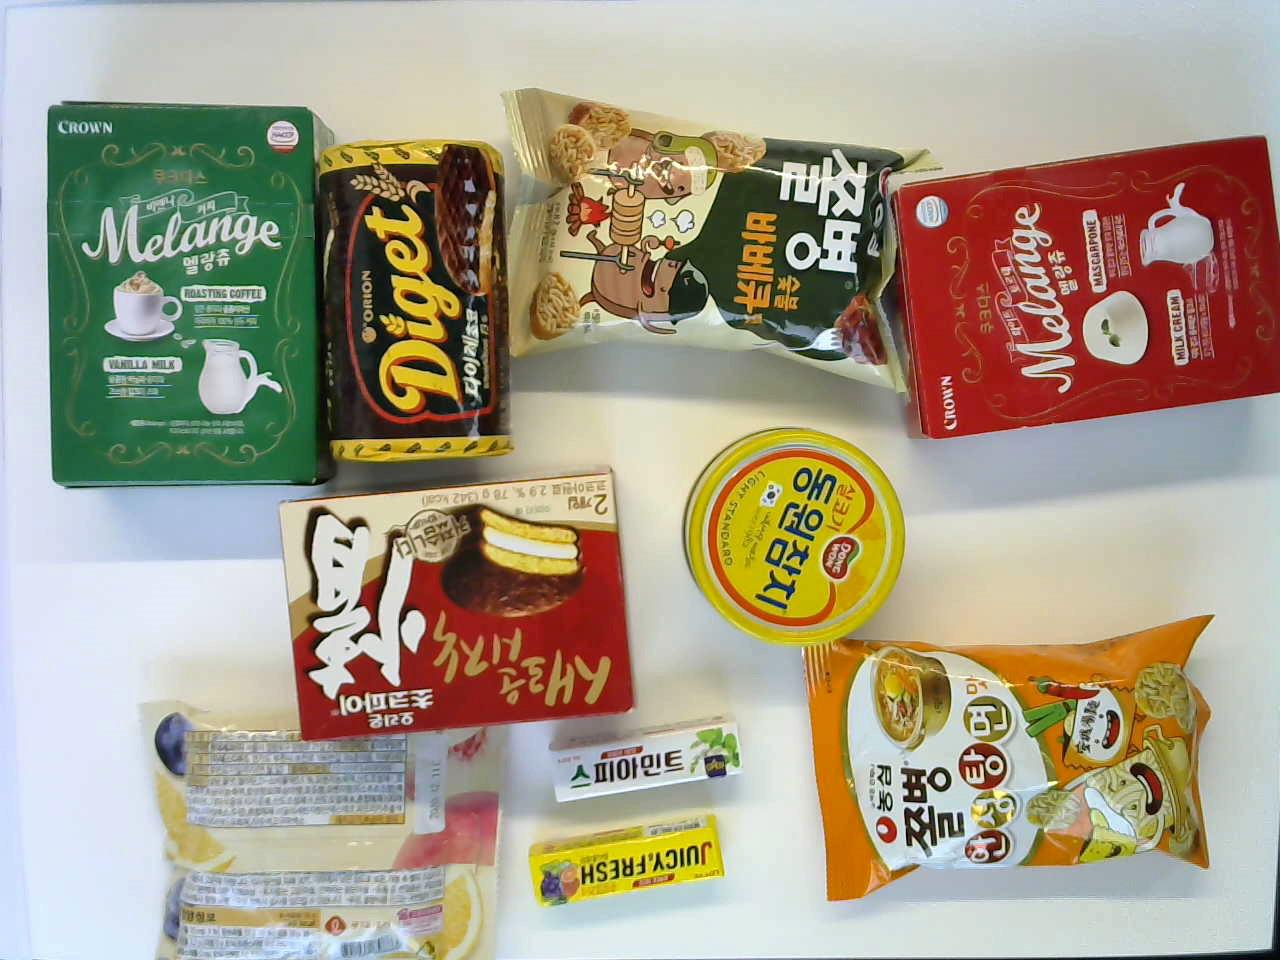chocopie: (276, 467, 635, 735)
couque_coffee: (40, 98, 330, 490)
couque_white: (896, 131, 1276, 448)
diget_choco: (325, 139, 502, 466)
gumi_gumi: (139, 700, 513, 959)
jjolbyung_noodle: (801, 614, 1218, 901)
jjolbyung_ori: (492, 82, 943, 397)
juicyfresh: (515, 813, 728, 910)
spearmint: (544, 721, 749, 805)
tuna: (672, 425, 913, 647)
